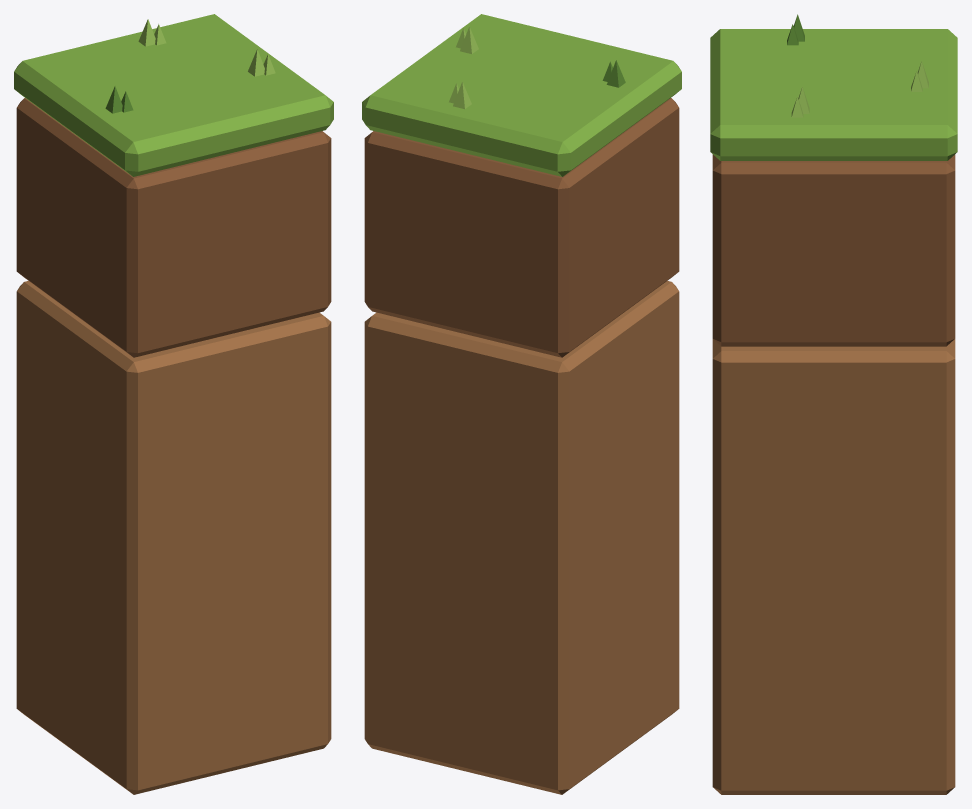
The model's file is column-sea-2.glb.
3 renders of one model, left to right at view 1: azimuth 30°, elevation 25°; view 2: azimuth 150°, elevation 25°; view 3: azimuth 270°, elevation 25°, orthographic. The views are drawn at different scales.
Parts seen in each view (by area): view 1: column-sea-2; view 2: column-sea-2; view 3: column-sea-2.
Part boxes in pixels (<box>): column-sea-2: <box>14,14,333,794</box>; column-sea-2: <box>362,14,681,794</box>; column-sea-2: <box>710,14,957,794</box>.
Bounding box in the file's own units: 1 × 3.1 × 1.
